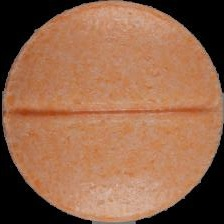68788-9212: (0, 0, 224, 224)
